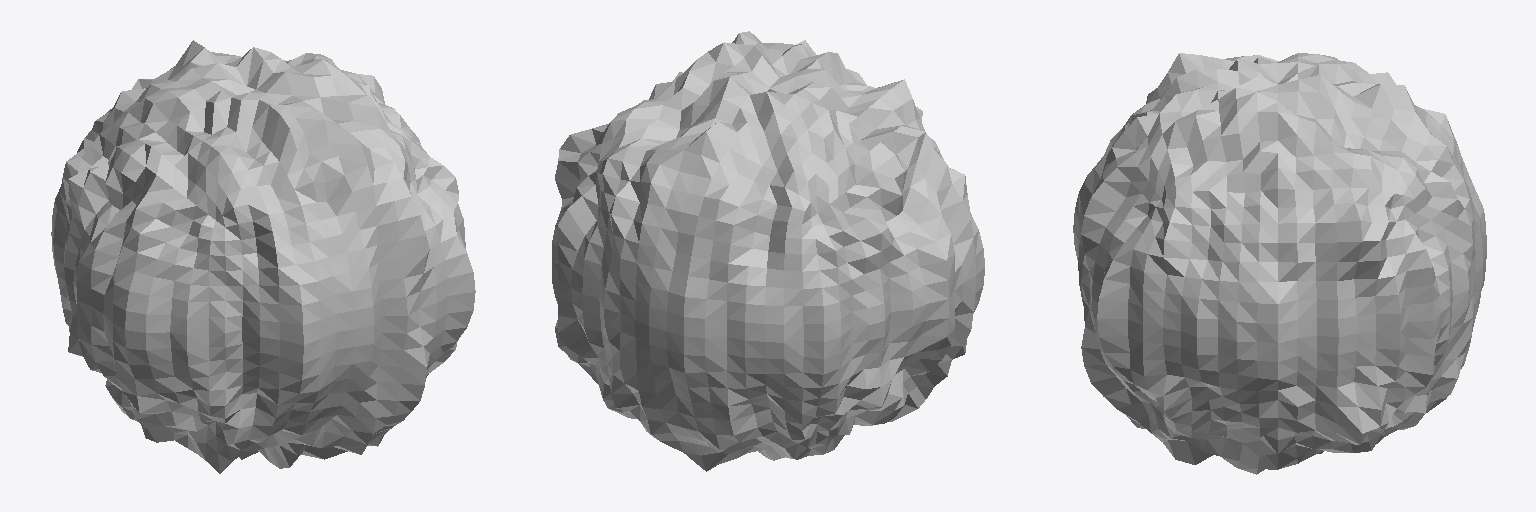
The model's file is asteroid116.obj.
3 renders of one model, left to right at view 1: azimuth 30°, elevation 25°; view 2: azimuth 150°, elevation 25°; view 3: azimuth 270°, elevation 25°, orthographic.
Visible parts, largest first — view 1: Cube_Cube.002; view 2: Cube_Cube.002; view 3: Cube_Cube.002.
Boxes of the visible parts, box(x1,y1,x2,y2) form: Cube_Cube.002: box(51, 40, 475, 473); Cube_Cube.002: box(552, 31, 984, 471); Cube_Cube.002: box(1073, 53, 1486, 474).
Size of the model in its own units: 1.77 by 1.8 by 1.76.